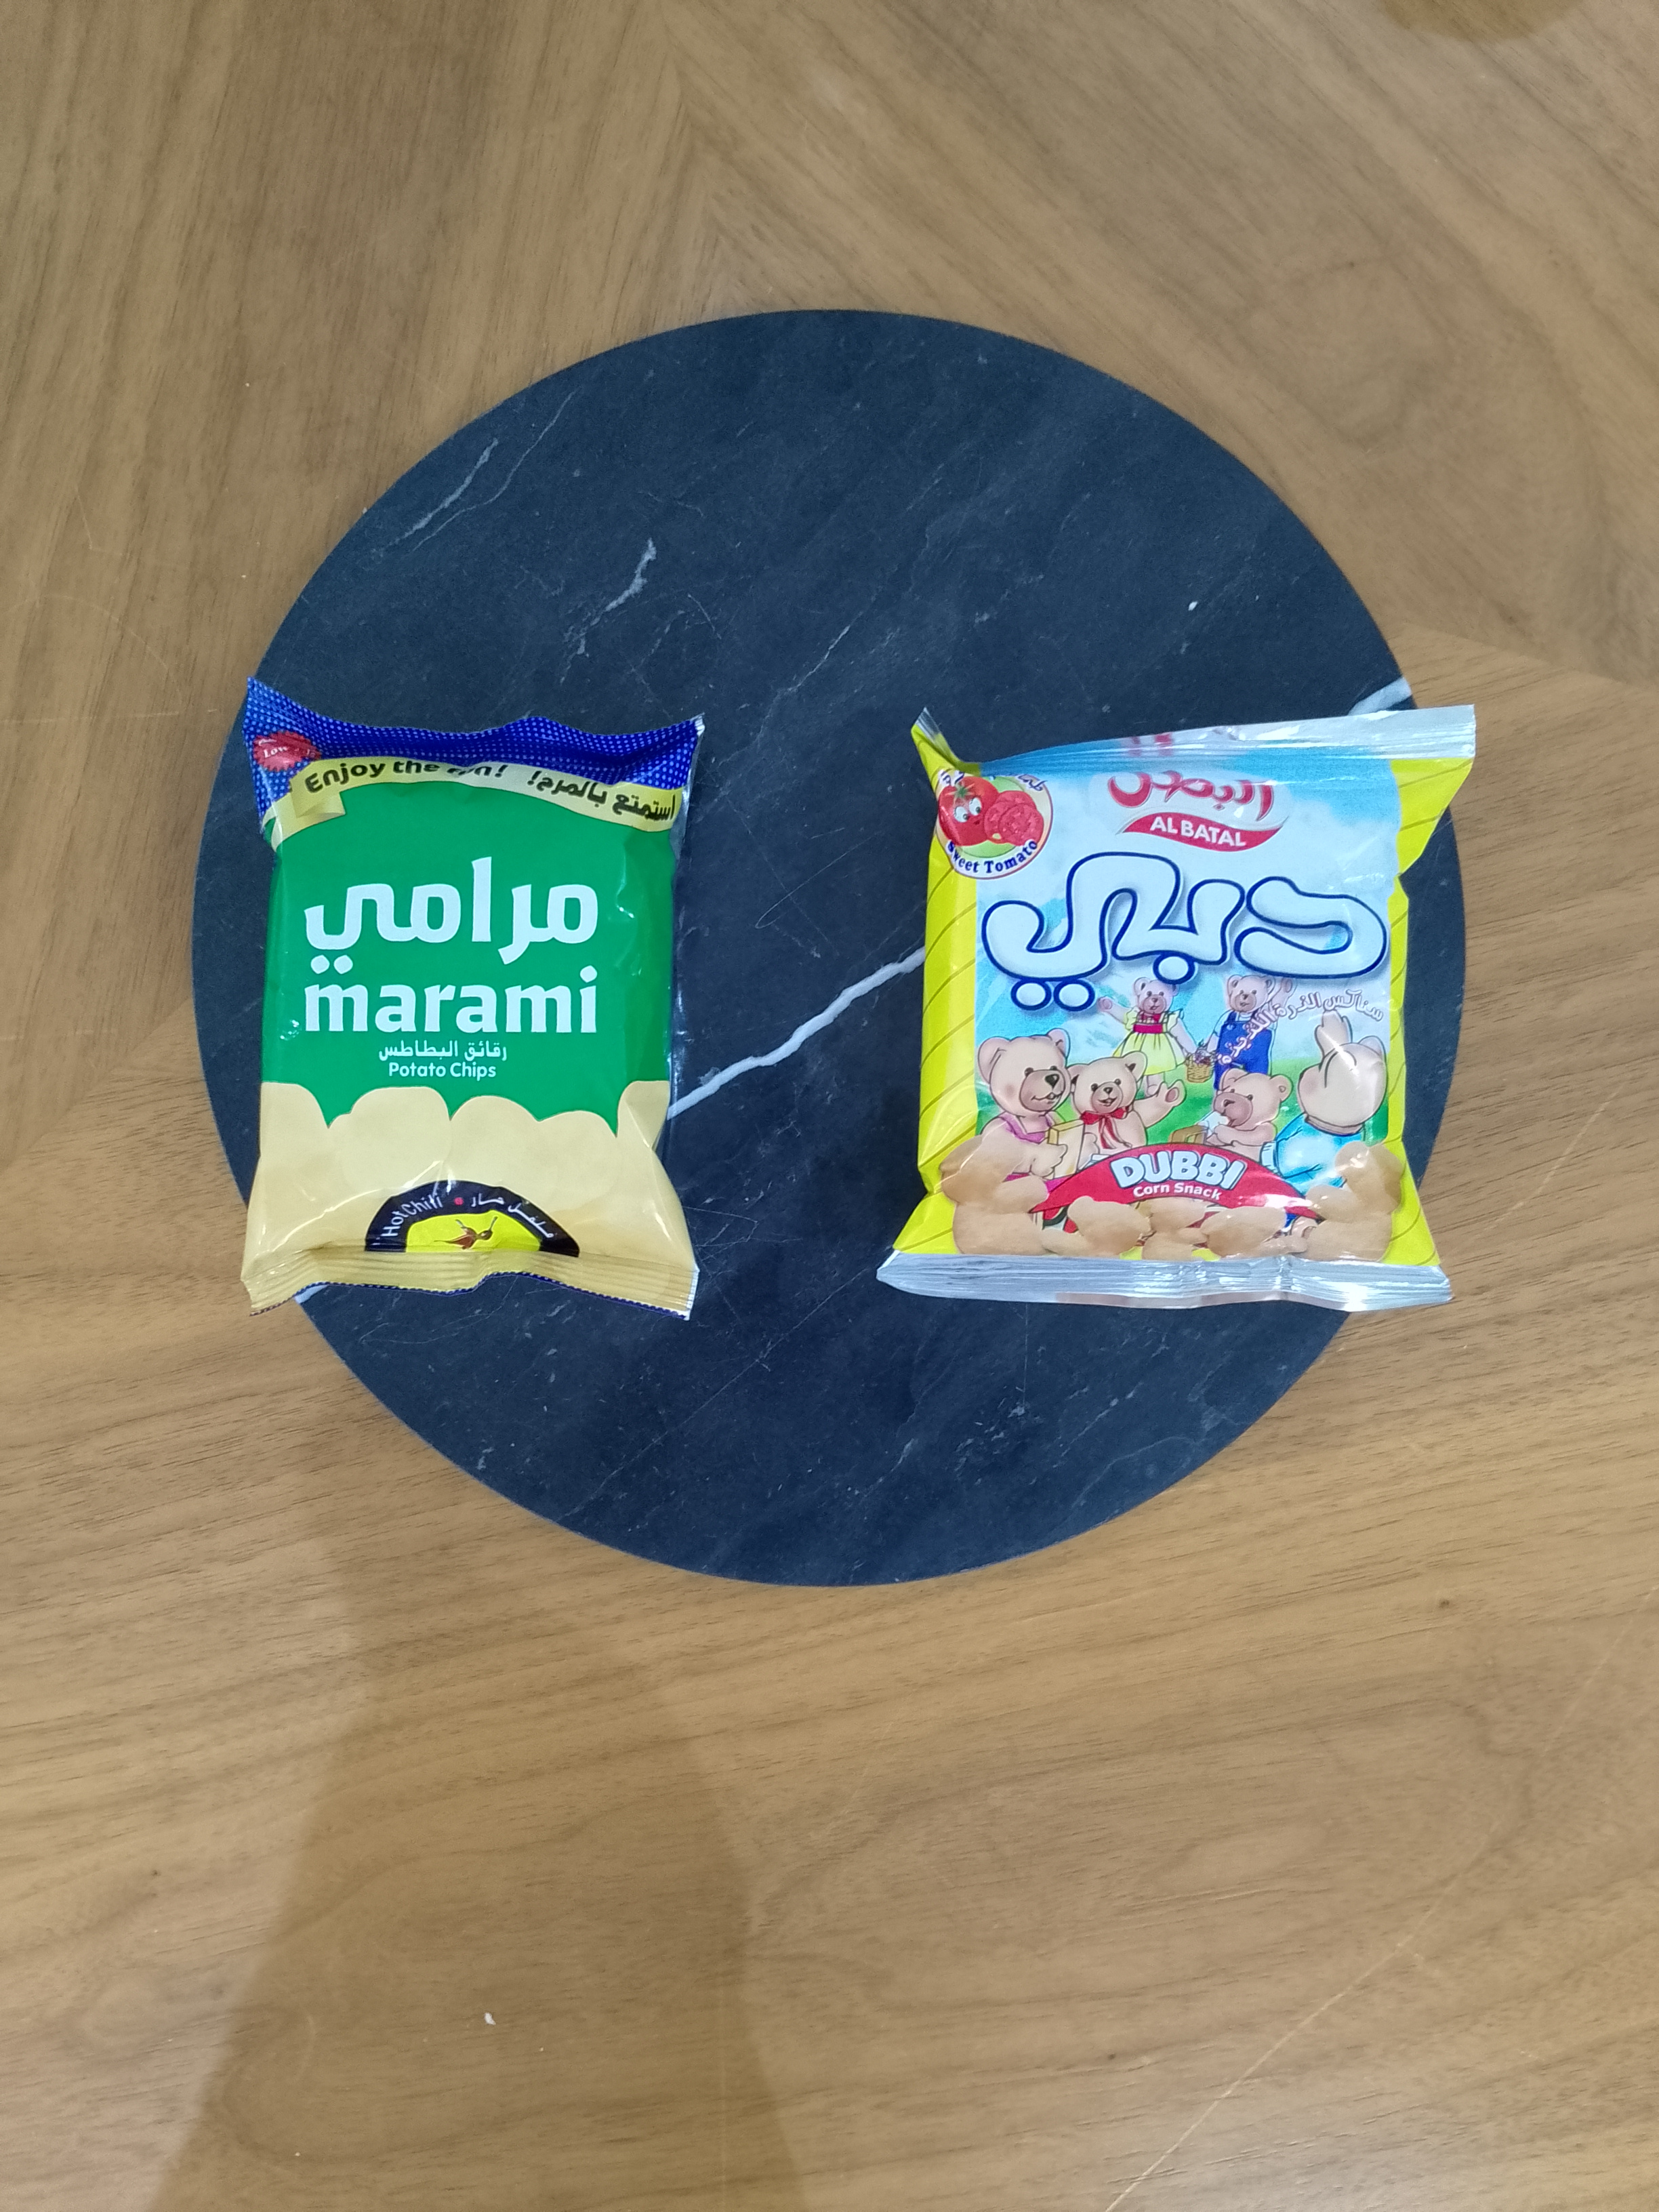albatal_dubbi_corn_snack: (876, 704, 1475, 1314)
marami_hot_chili: (241, 675, 705, 1322)
